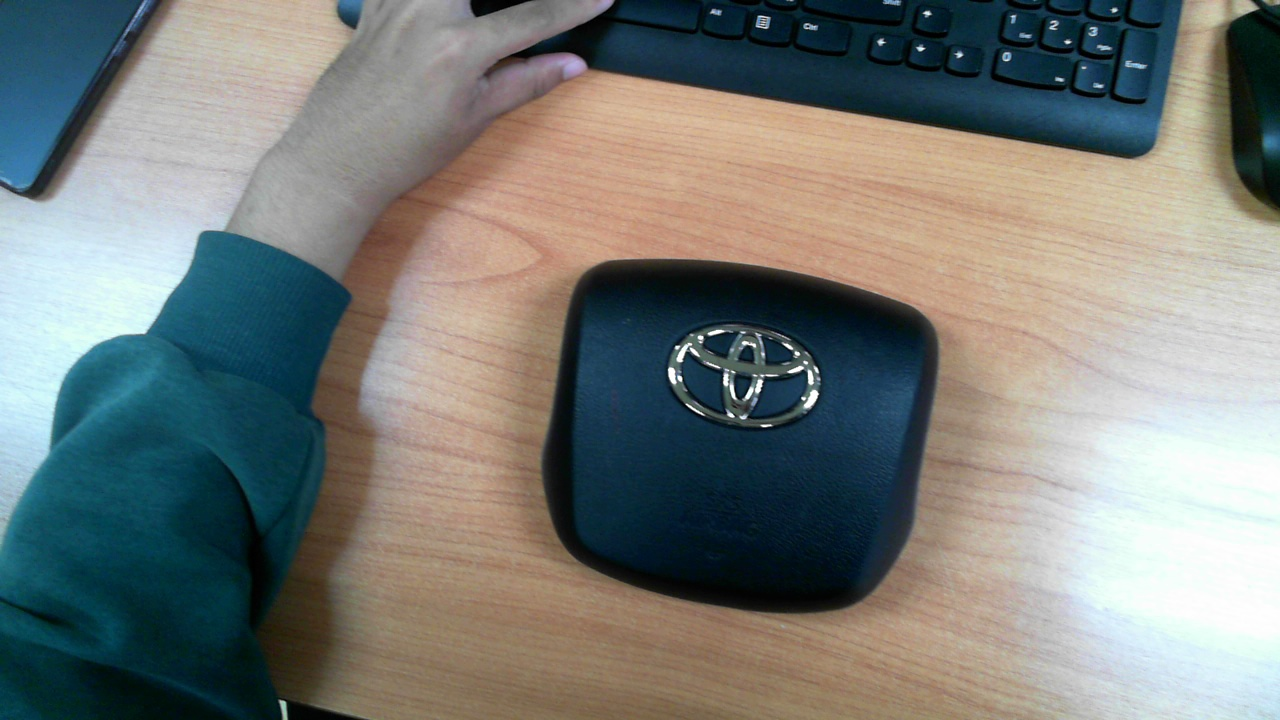Airbag: (541, 258, 939, 615)
Toyota: (668, 324, 821, 428)
